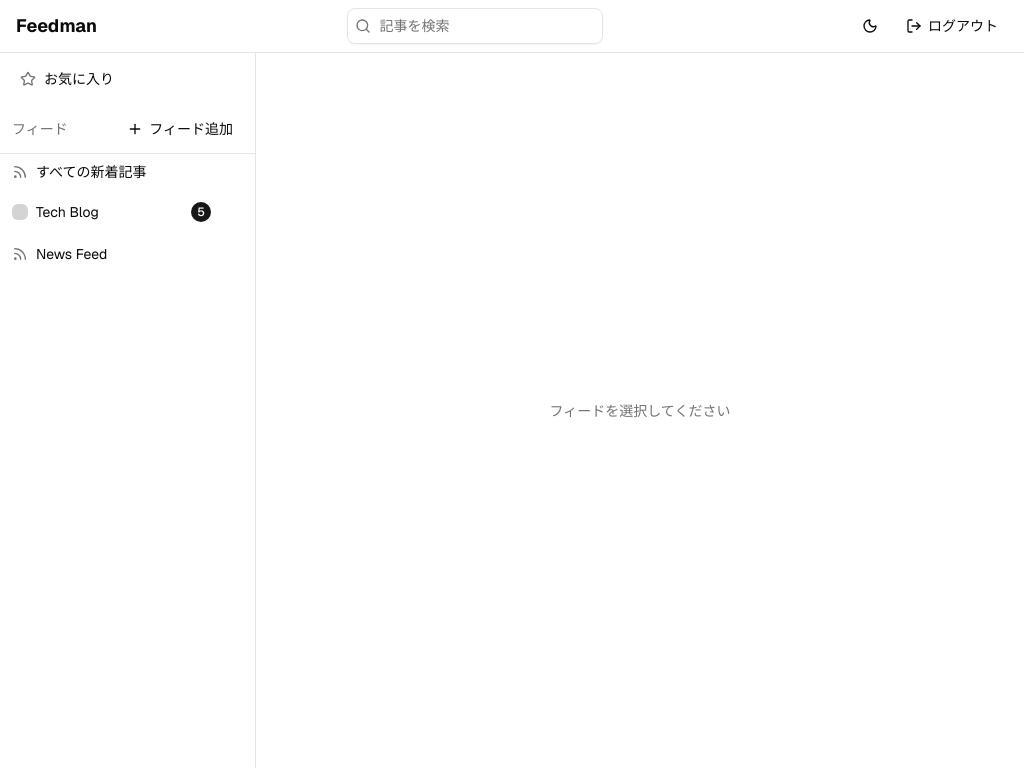
Scenario: AppShell コンポーネント › 購読解除フロー（task 6） › (c) 選択中フィードを購読解除 → ダイアログ閉鎖・一覧から除外・右ペインが初期表示に戻ること（AC 4.1, 4.2, 4.4, 4.5）
// 事前に Tech Blog を選択（右ペインに ItemList が描画される）
Click the text "Tech Blog" at point(67, 212), box [36, 203, 99, 221]
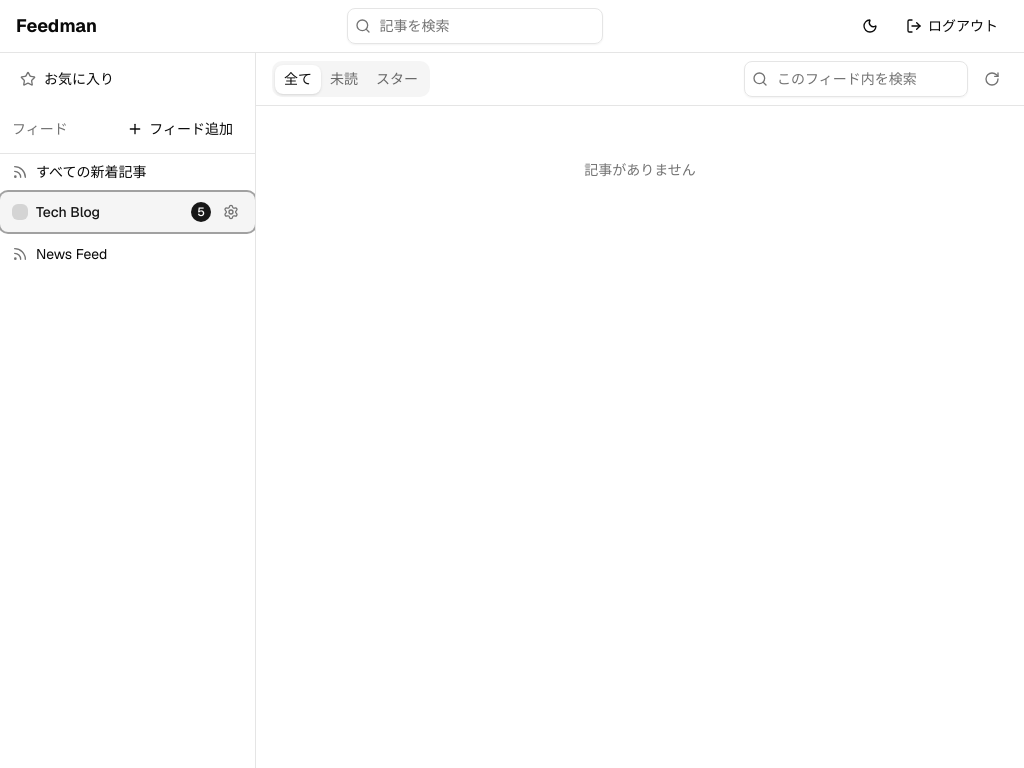
Result: the tab "全て" is shown at [275, 64, 321, 94]
// ギアボタンクリック → ダイアログ表示
Click the button with test id "feed-settings-button-sub-1" at point(231, 212), box [219, 200, 243, 224]
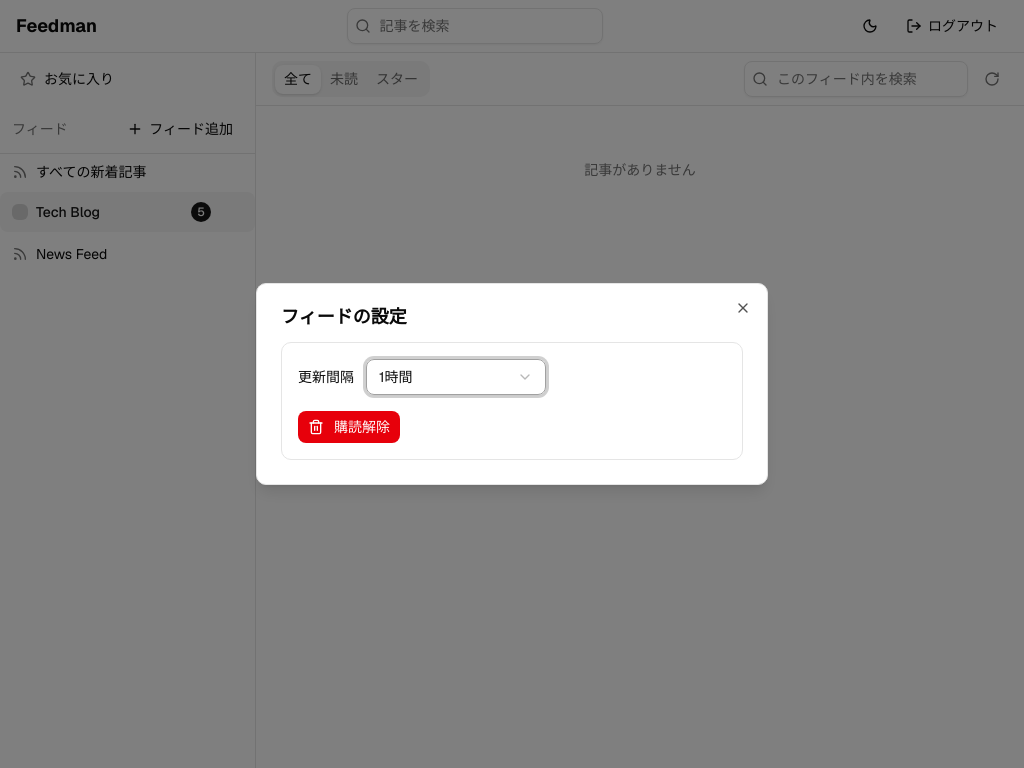
Result: the heading "フィードの設定" is shown at [281, 305, 407, 328]
// 「購読解除」ボタンクリック → 確認 AlertDialog 表示
Click the button with test id "unsubscribe-button" at point(349, 427), box [298, 411, 400, 443]
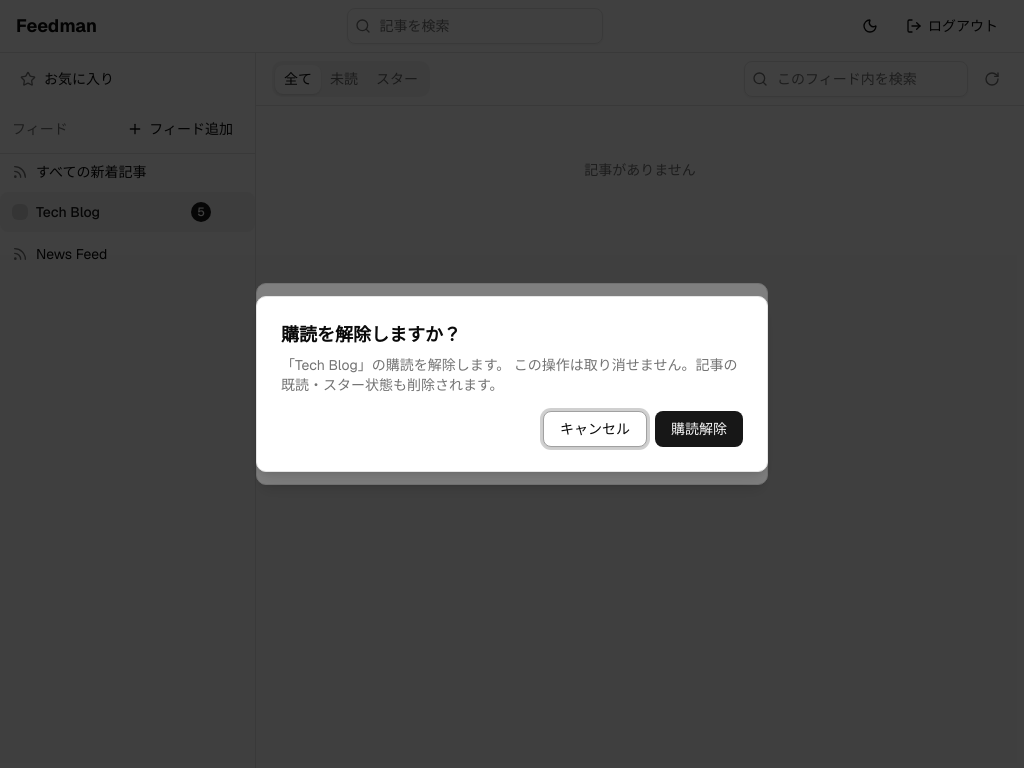
Result: the heading "購読を解除しますか？" is shown at [281, 321, 461, 349]
// 確認ダイアログの「購読解除」ボタンを押下（AlertDialog の確定）
Click the button "購読解除" at point(699, 429), box [655, 411, 743, 447]
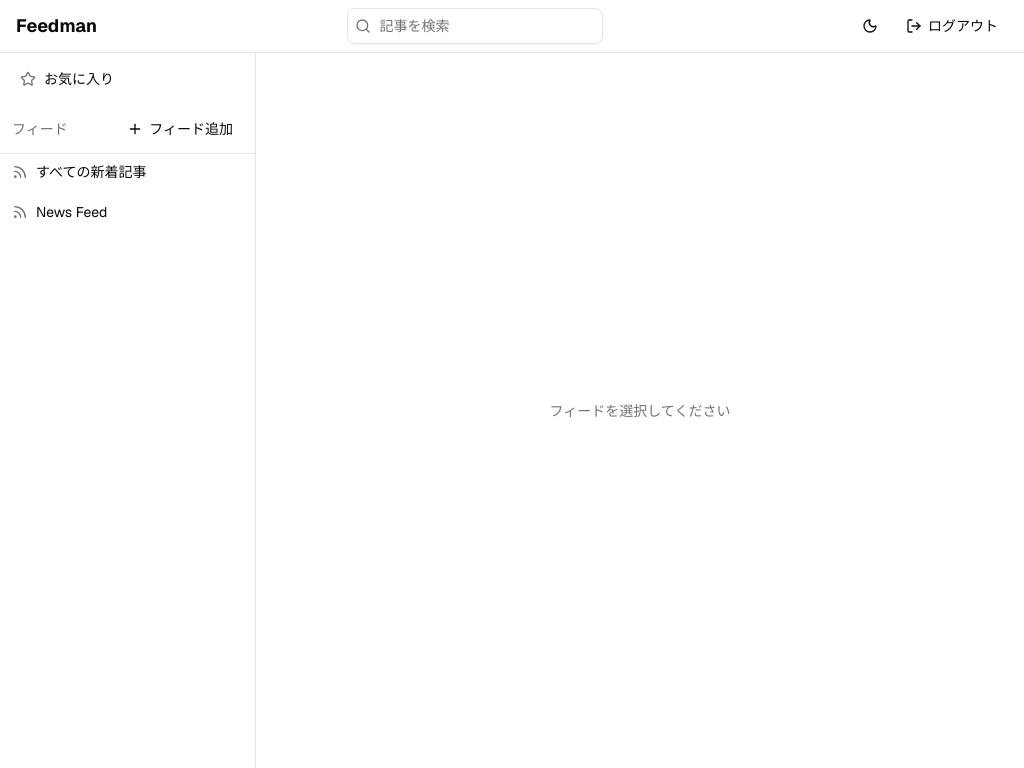
Result: the heading "フィードの設定" is gone
Result: the button "Tech Blog" is gone
Result: the text "フィードを選択してください" is shown at [550, 402, 730, 420]
